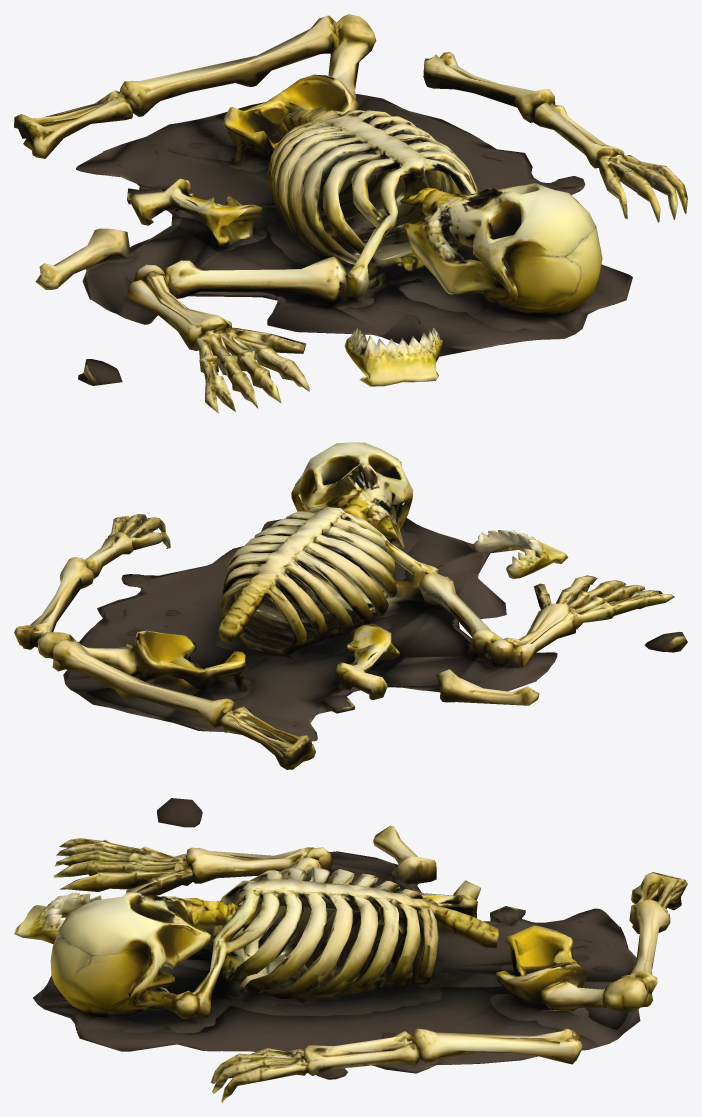
File: RandomBones2.opt.glb
The picture shows the model from 3 angles, top to bottom: view 1: azimuth 30°, elevation 25°; view 2: azimuth 150°, elevation 25°; view 3: azimuth 270°, elevation 25°; orthographic projection. The views are drawn at different scales.
Visible parts, largest first — view 1: node_0; view 2: node_0; view 3: node_0.
Boxes of the visible parts, <box> form: node_0: <box>14,14,687,413</box>; node_0: <box>14,442,687,769</box>; node_0: <box>14,798,687,1102</box>.
Size of the model in its own units: 1.05 by 0.1842 by 1.01.
1 material, 1 textured.
